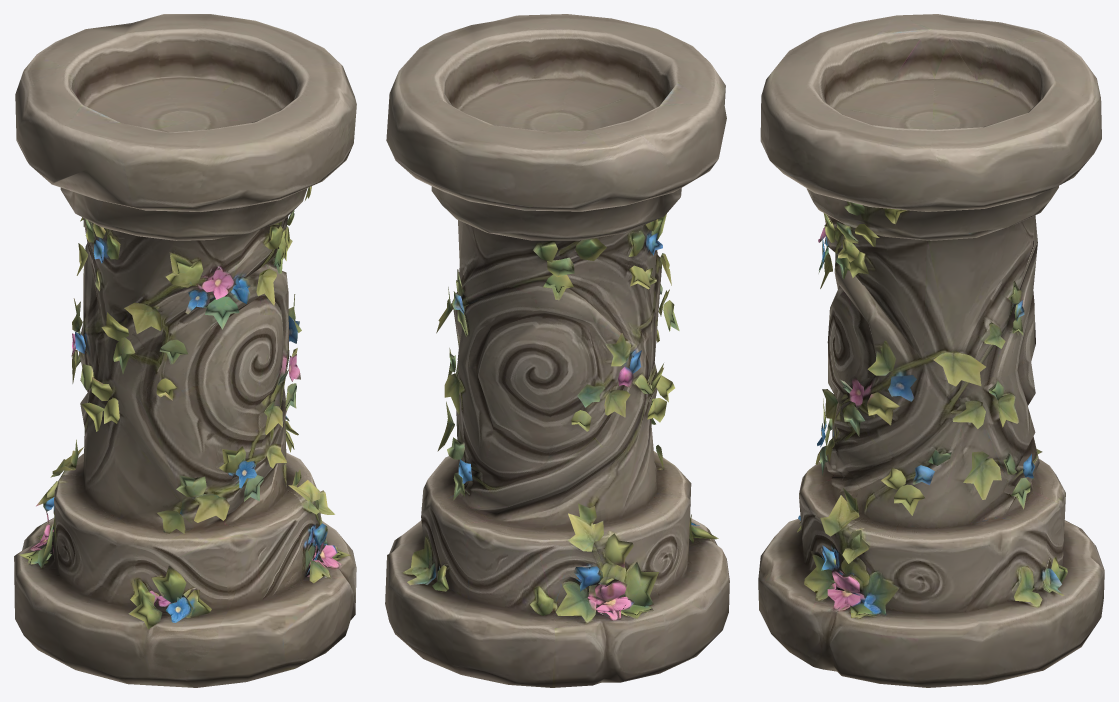
The model's file is pedestal.glb.
3 views of the same model, side by side, from view 1: azimuth 30°, elevation 25°; view 2: azimuth 150°, elevation 25°; view 3: azimuth 270°, elevation 25° (orthographic).
Bounding box in the file's own units: 0.5782 × 1 × 0.5817.
Materials: 1 (1 with a texture image).
